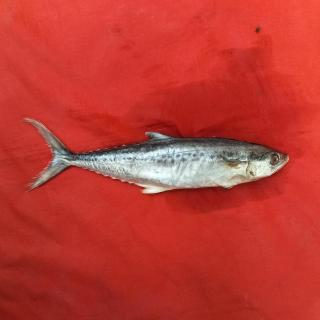Ikan: (8, 108, 298, 208)
